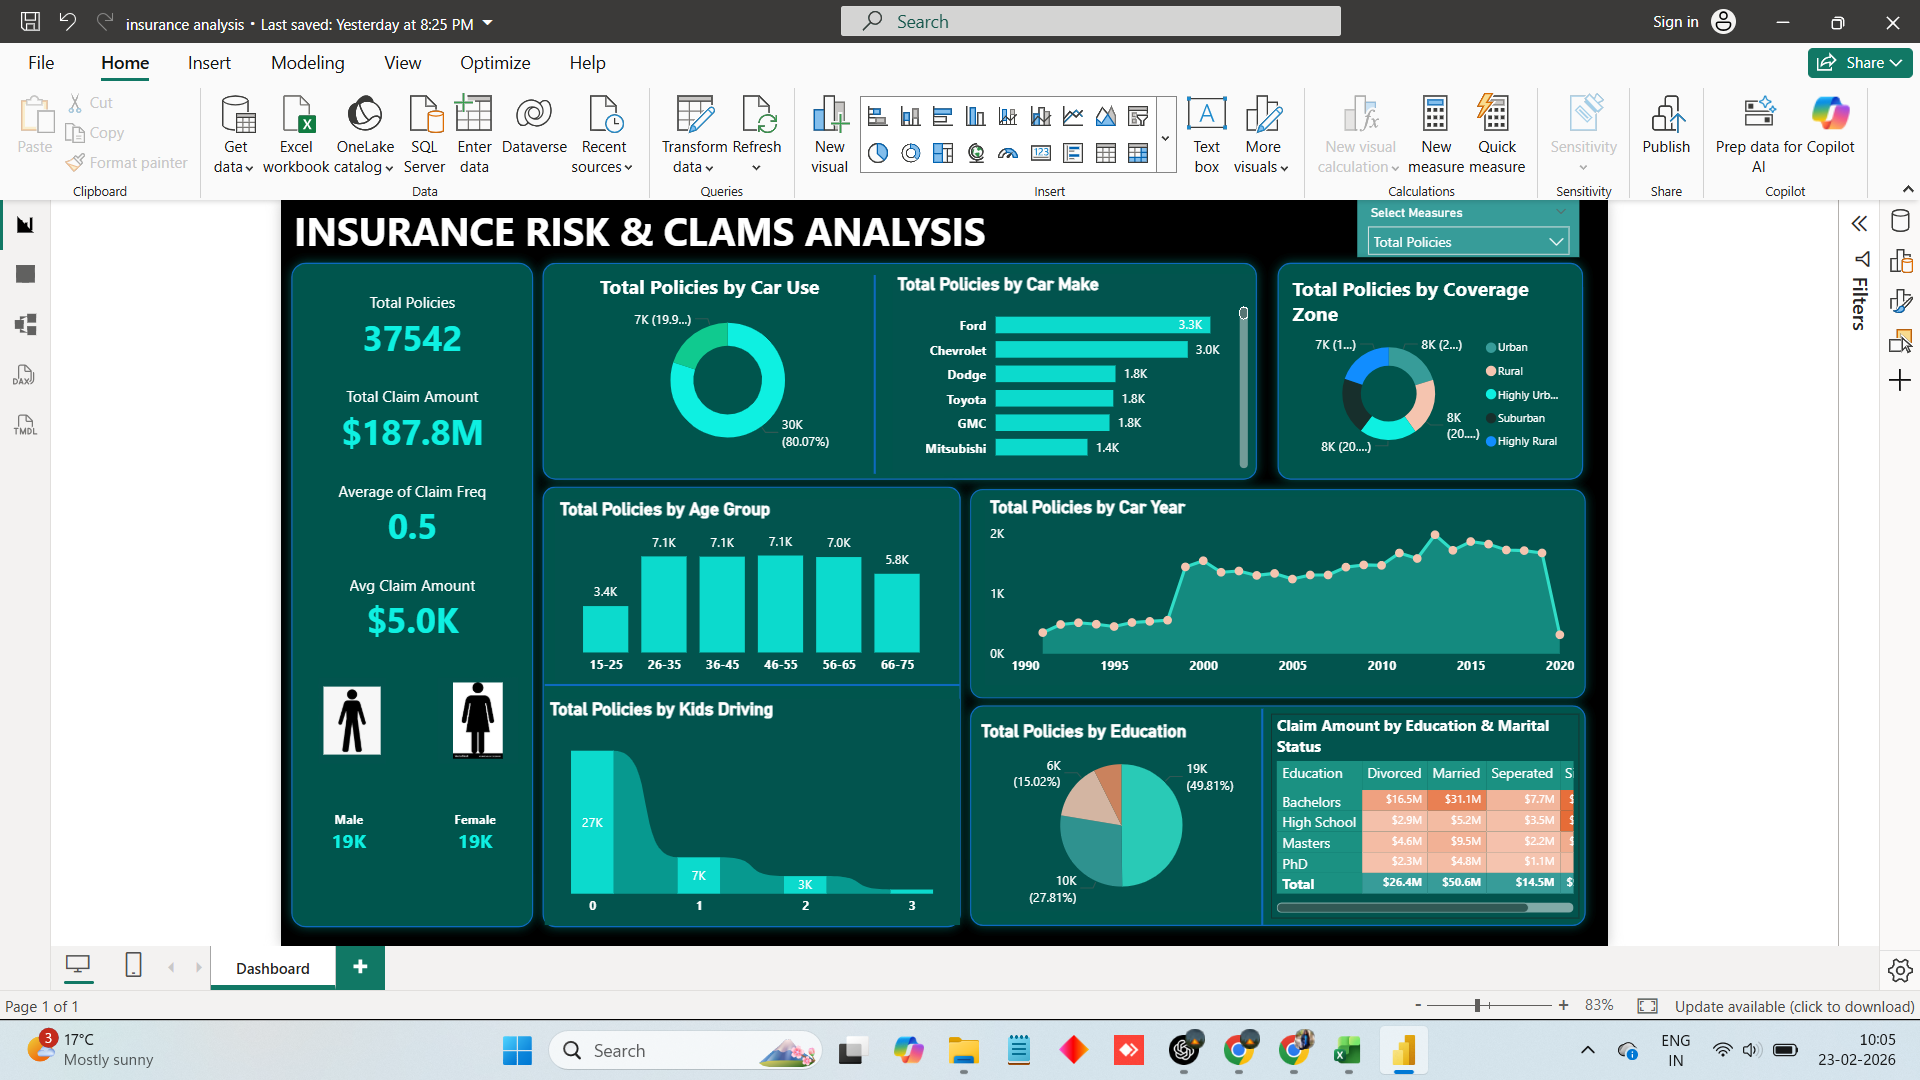

This screenshot's page, from the dashboard's own definition file:
{"tool":"powerbi","page":{"name":"Dashboard","canvas":[1280,720],"ordinal":0},"visuals":[{"type":"textbox","box":[0,0,692.5,60.6],"z":0},{"type":"shape","box":[0,50.7,253.4,661.1],"z":1},{"type":"cardVisual","fields":{"Data":["insurance_data_car.Total Policies","insurance_data_car.Total Claim Amount","Avg(insurance_data_car.Claim Freq)","insurance_data_car.Avg Claim Amount"]},"box":[31.4,71.2,191.8,369.2],"z":2},{"type":"cardVisual","fields":{"Data":["insurance_data_car.Male Count","insurance_data_car.Female Count"]},"box":[0,561,253.4,94.1],"z":3},{"type":"image","box":[36.2,460.9,65.1,83.2],"z":4},{"type":"image","box":[150.8,460.9,78.4,83.2],"z":5},{"type":"slicer","fields":{"Values":["Select Measures.Select Measures"]},"box":[1038.7,0,214.7,55.5],"z":6},{"type":"shape","box":[242.5,50.7,709.4,229.2],"z":7},{"type":"donutChart","fields":{"Category":["insurance_data_car.Car Use"],"Y":["insurance_data_car.Total Policies"]},"box":[302.9,71.4,257,181],"z":8},{"type":"clusteredBarChart","fields":{"Category":["insurance_data_car.Car Make"],"Y":["insurance_data_car.Total Policies"]},"box":[590,71.4,348.6,192.9],"z":9},{"type":"shape","box":[951.9,50.7,314.9,229.2],"z":10},{"type":"donutChart","fields":{"Category":["insurance_data_car.Coverage Zone"],"Y":["insurance_data_car.Total Policies"]},"box":[971.2,72.4,276.3,179.8],"z":11},{"type":"shape","box":[242.5,266.6,423.5,445.2],"z":12},{"type":"clusteredColumnChart","fields":{"Category":["insurance_data_car.Age Group"],"Y":["insurance_data_car.Total Policies"]},"box":[264.2,288.3,381.2,178.6],"z":13},{"type":"ribbonChart","fields":{"Category":["insurance_data_car.Kids Driving"],"Y":["insurance_data_car.Total Policies"]},"box":[254.6,481.4,400.5,218.4],"z":14},{"type":"shape","box":[655.1,269,614.1,222],"z":15},{"type":"areaChart","fields":{"Category":["insurance_data_car.Car Year"],"Y":["insurance_data_car.Total Policies"]},"box":[679.2,285.9,574.3,182.2],"z":16},{"type":"shape","box":[655.1,477.8,614.1,232.8],"z":17},{"type":"pieChart","fields":{"Category":["insurance_data_car.Education"],"Y":["insurance_data_car.Total Policies"]},"box":[670.8,501.9,281.1,184.6],"z":18},{"type":"pivotTable","title":"Claim Amount by Education & Marital Status","fields":{"Columns":["insurance_data_car.Marital Status"],"Rows":["insurance_data_car.Education"],"Values":["insurance_data_car.Total Claim Amount"]},"box":[955.5,495.8,298,197.9],"z":19},{"type":"shape","box":[254.6,451.2,400.5,33.8],"z":20},{"type":"shape","box":[548.9,72.4,48.3,191.8],"z":21},{"type":"shape","box":[922.9,491,48.3,208.7],"z":22}]}

Visuals, with their boxes on the page's 1280x720 design canvas (x1, y1, x2, y2). These are canvas units, not pixel positions in the 1920x1080 screenshot, which may show the page scaled, cropped or inside an application window:
textbox: pyautogui.locateOnScreen(0, 0, 692, 61)
shape: pyautogui.locateOnScreen(0, 51, 253, 712)
cardVisual - insurance_data_car.Total Policies x insurance_data_car.Total Claim Amount: pyautogui.locateOnScreen(31, 71, 223, 440)
cardVisual - insurance_data_car.Male Count x insurance_data_car.Female Count: pyautogui.locateOnScreen(0, 561, 253, 655)
image: pyautogui.locateOnScreen(36, 461, 101, 544)
image: pyautogui.locateOnScreen(151, 461, 229, 544)
slicer - Select Measures.Select Measures: pyautogui.locateOnScreen(1039, 0, 1253, 56)
shape: pyautogui.locateOnScreen(242, 51, 952, 280)
donutChart - insurance_data_car.Car Use x insurance_data_car.Total Policies: pyautogui.locateOnScreen(303, 71, 560, 252)
clusteredBarChart - insurance_data_car.Car Make x insurance_data_car.Total Policies: pyautogui.locateOnScreen(590, 71, 939, 264)
shape: pyautogui.locateOnScreen(952, 51, 1267, 280)
donutChart - insurance_data_car.Coverage Zone x insurance_data_car.Total Policies: pyautogui.locateOnScreen(971, 72, 1248, 252)
shape: pyautogui.locateOnScreen(242, 267, 666, 712)
clusteredColumnChart - insurance_data_car.Age Group x insurance_data_car.Total Policies: pyautogui.locateOnScreen(264, 288, 645, 467)
ribbonChart - insurance_data_car.Kids Driving x insurance_data_car.Total Policies: pyautogui.locateOnScreen(255, 481, 655, 700)
shape: pyautogui.locateOnScreen(655, 269, 1269, 491)
areaChart - insurance_data_car.Car Year x insurance_data_car.Total Policies: pyautogui.locateOnScreen(679, 286, 1254, 468)
shape: pyautogui.locateOnScreen(655, 478, 1269, 711)
pieChart - insurance_data_car.Education x insurance_data_car.Total Policies: pyautogui.locateOnScreen(671, 502, 952, 686)
"Claim Amount by Education & Marital Status" pivotTable: pyautogui.locateOnScreen(956, 496, 1254, 694)
shape: pyautogui.locateOnScreen(255, 451, 655, 485)
shape: pyautogui.locateOnScreen(549, 72, 597, 264)
shape: pyautogui.locateOnScreen(923, 491, 971, 700)
